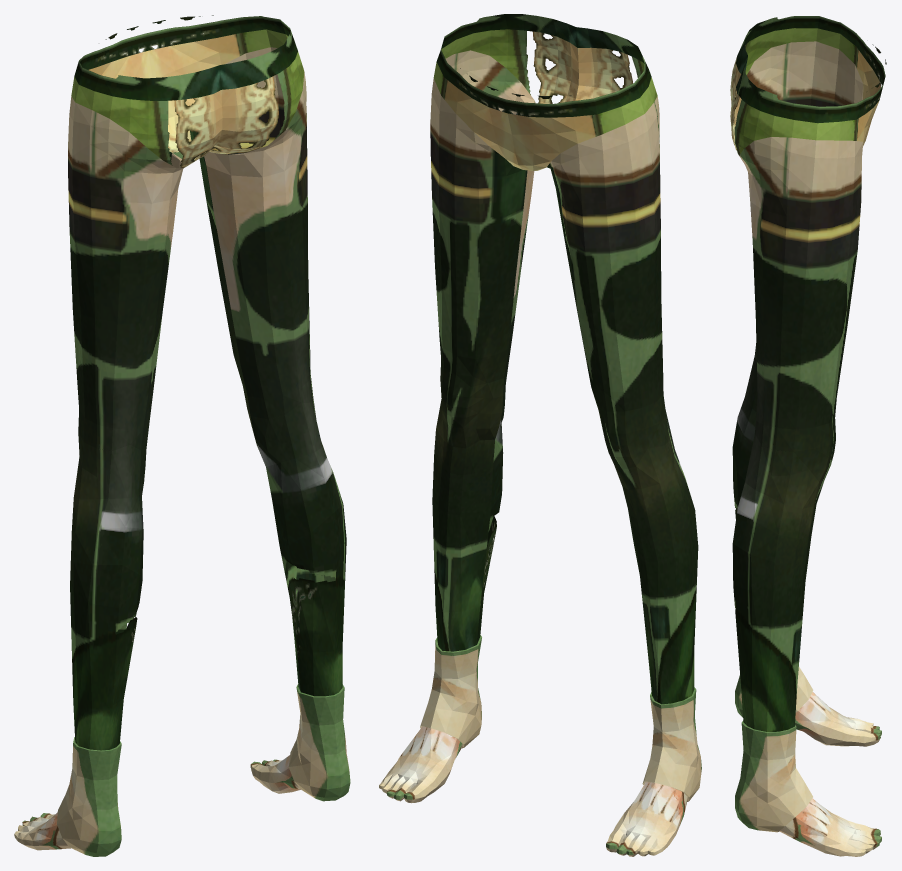
The model's file is skinSource0LNE.obj.
The picture shows the model from 3 angles, left to right: view 1: azimuth 30°, elevation 25°; view 2: azimuth 150°, elevation 25°; view 3: azimuth 270°, elevation 25°; orthographic projection. The views are drawn at different scales.
Parts seen in each view (by area): view 1: skinSource0LNE; view 2: skinSource0LNE; view 3: skinSource0LNE.
Part boxes in pixels (bbox=[...]): skinSource0LNE: bbox=[14, 15, 350, 856]; skinSource0LNE: bbox=[379, 14, 701, 856]; skinSource0LNE: bbox=[730, 16, 886, 856].
Size of the model in its own units: 35.84 by 92.28 by 17.8.
